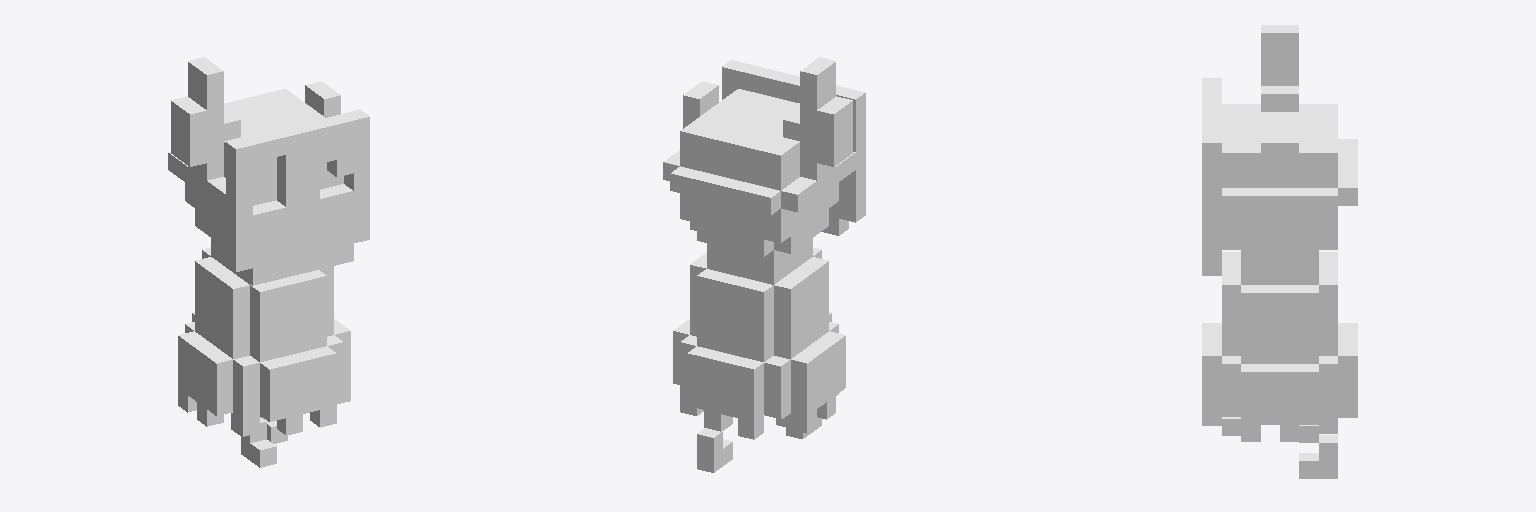
File: Voxels-25.obj
3 renders of one model, left to right at view 1: azimuth 30°, elevation 25°; view 2: azimuth 150°, elevation 25°; view 3: azimuth 270°, elevation 25°, orthographic.
Parts seen in each view (by area): view 1: Voxels-25; view 2: Voxels-25; view 3: Voxels-25.
Part boxes in pixels (x1,y1,x2,y2): Voxels-25: (168,57,369,467); Voxels-25: (663,57,865,472); Voxels-25: (1202,25,1357,478).
Bounding box in the file's own units: 9 × 23 × 8.